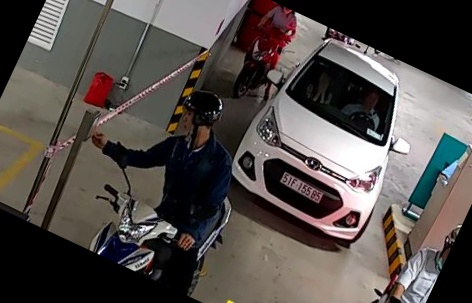plate: (268, 161, 333, 213)
